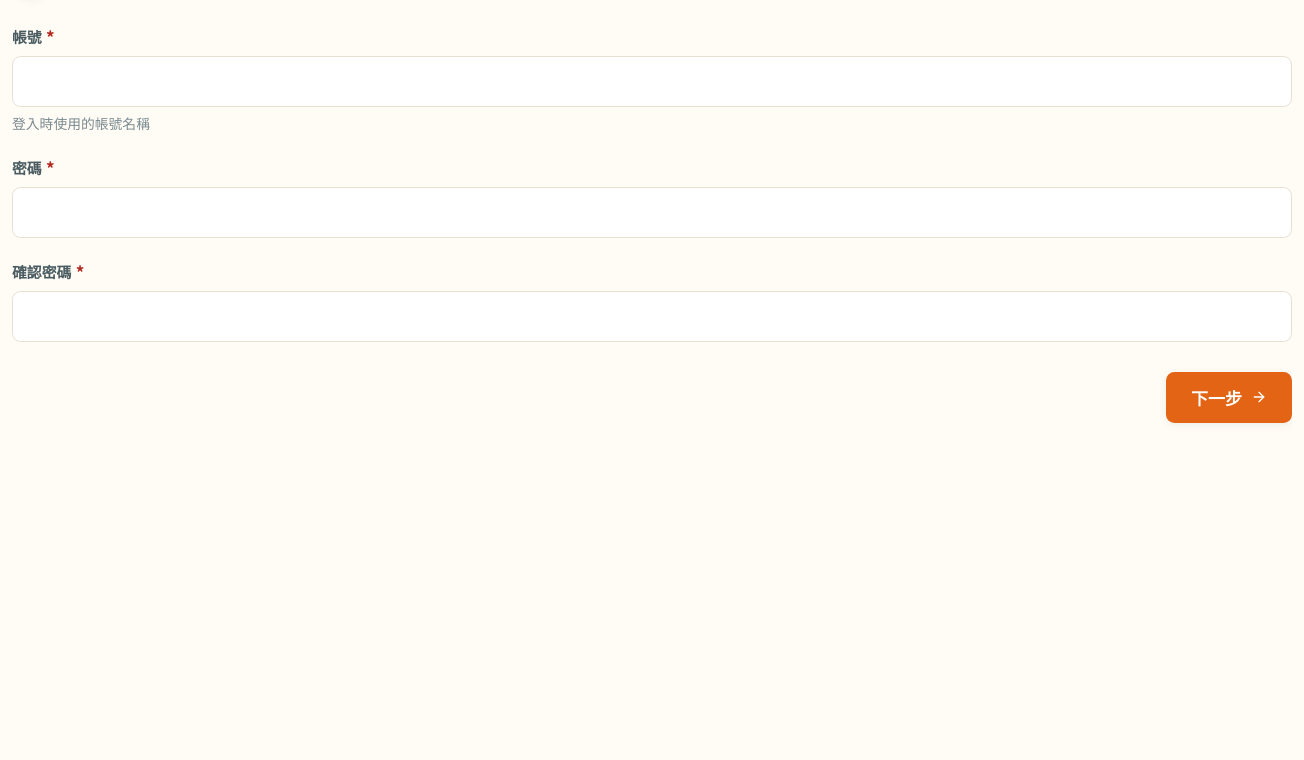
Scenario: RegisterForm › can go back from step 2 to step 1
This screenshot has width=1304, height=760.
Type "validuser" into the field labelled "帳號". click: point(652, 81)
box: [12,56,1292,107]
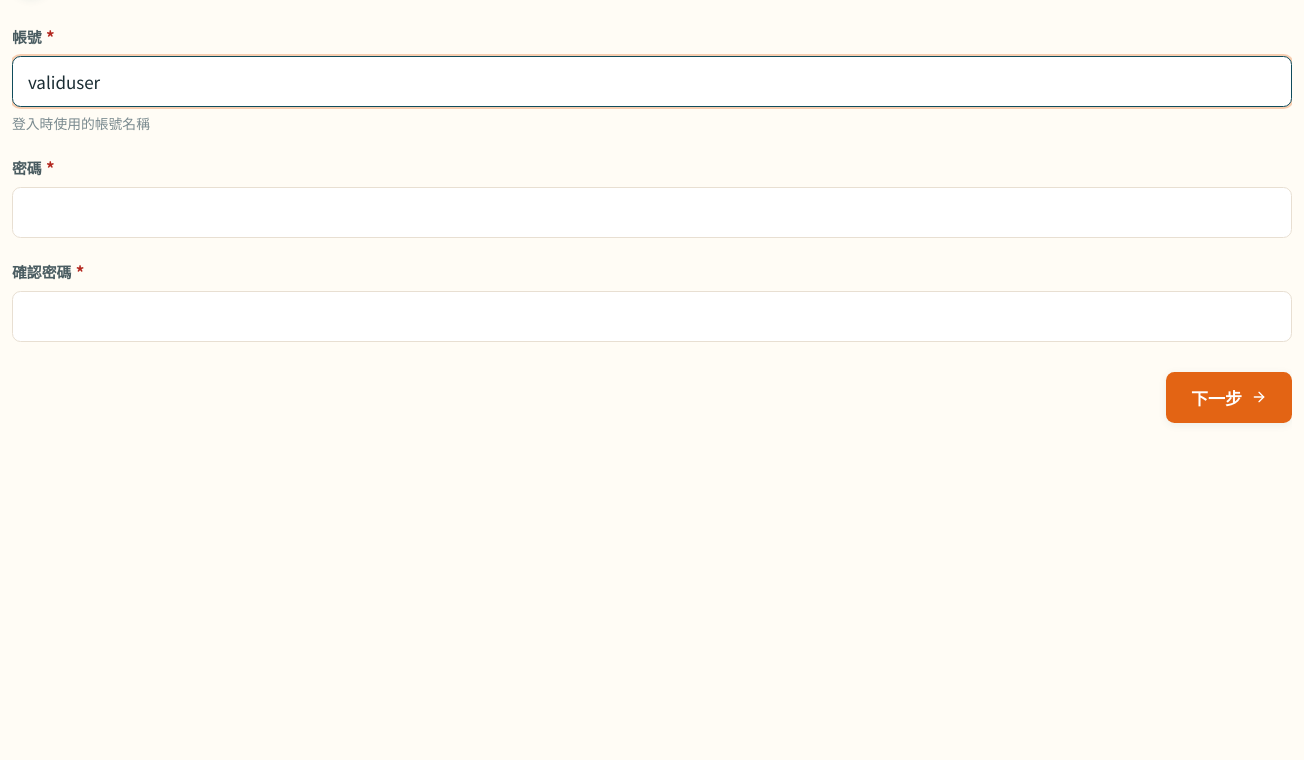
Type "password123" into the password field labelled "密碼". click: point(652, 212)
box: [12,187,1292,238]
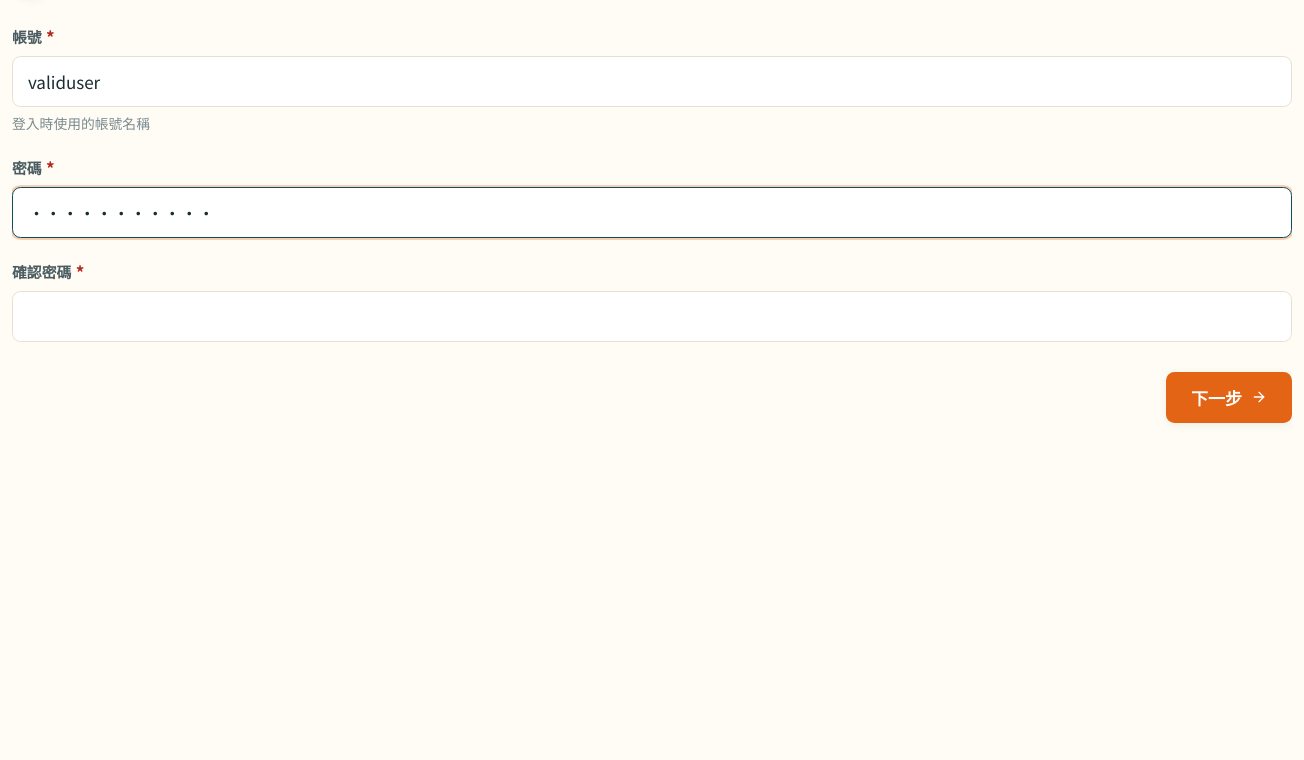
Type "password123" into the password field labelled "確認密碼". click: point(652, 316)
box: [12,291,1292,342]
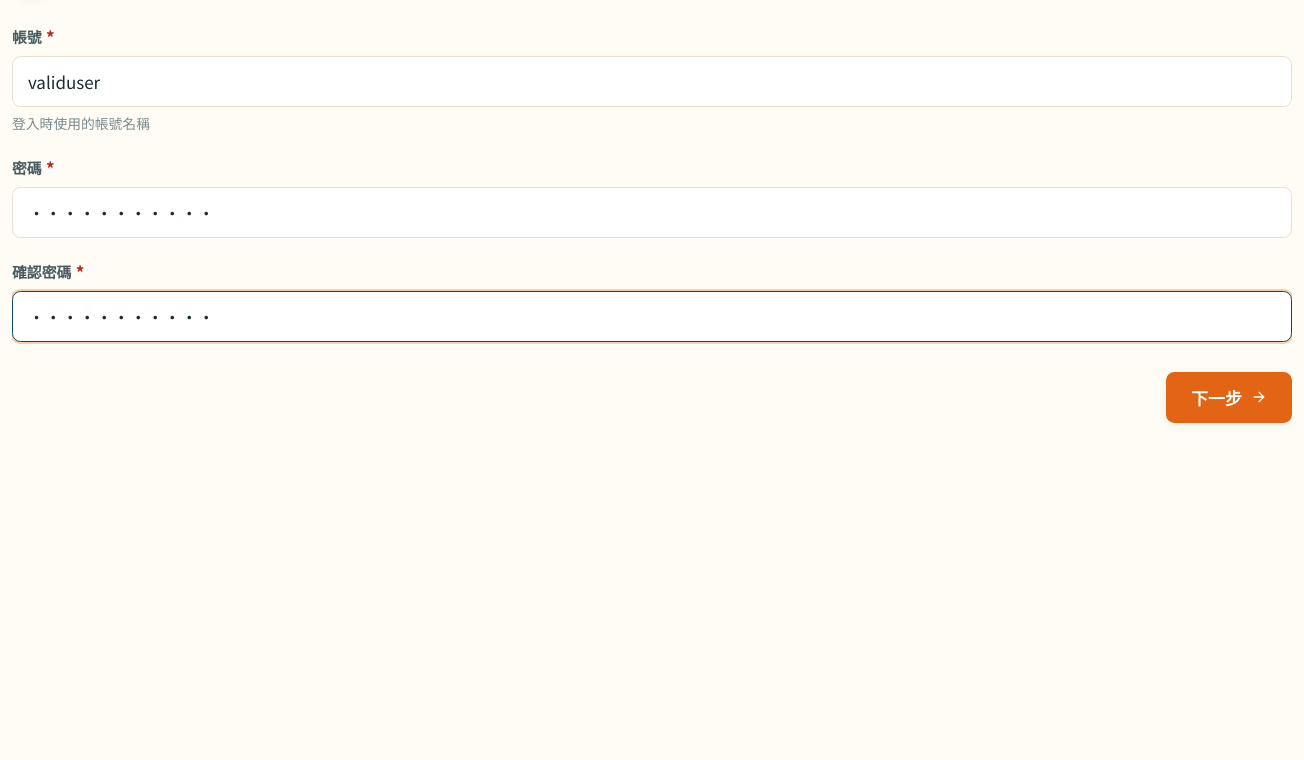
Click the button "下一步". click: point(1229, 397)
box: [1166,372,1292,423]
(page scrolled)
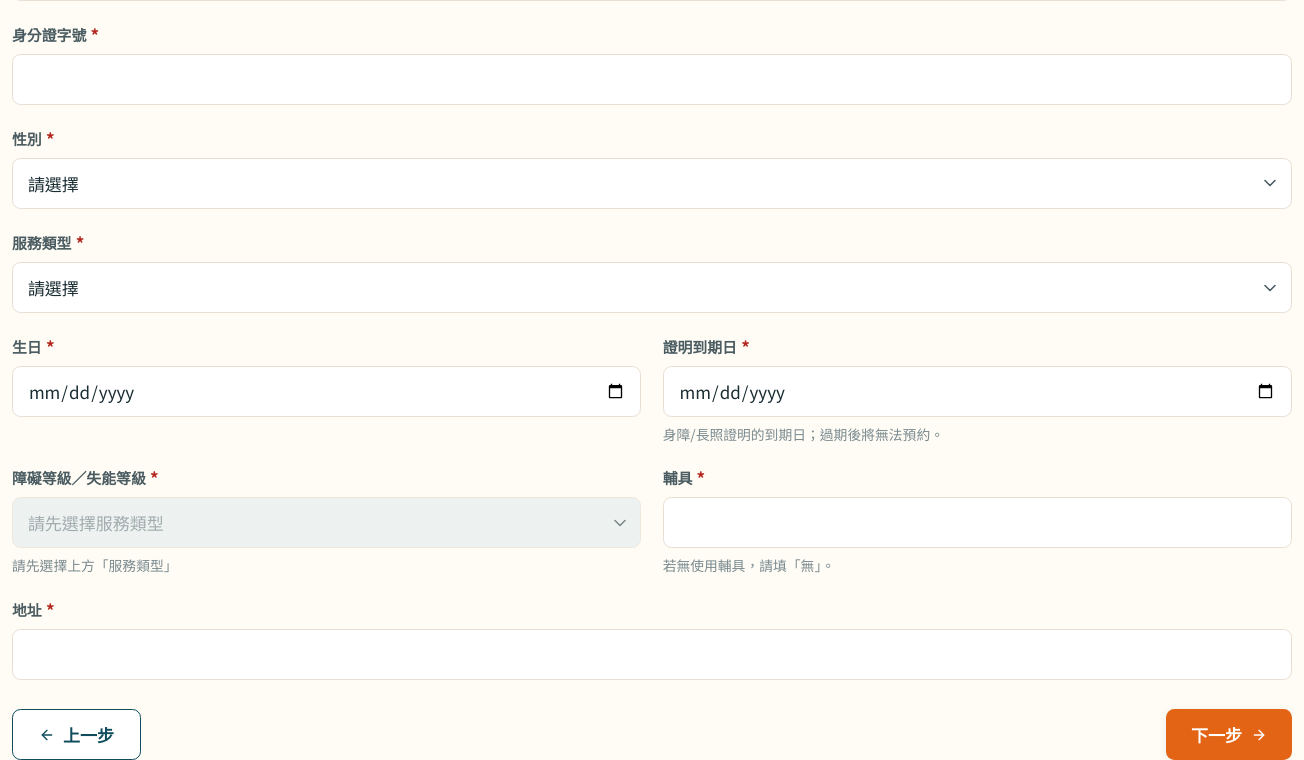
Click the button "上一步". click: point(76, 735)
box: [12,709,140,759]
(page scrolled)
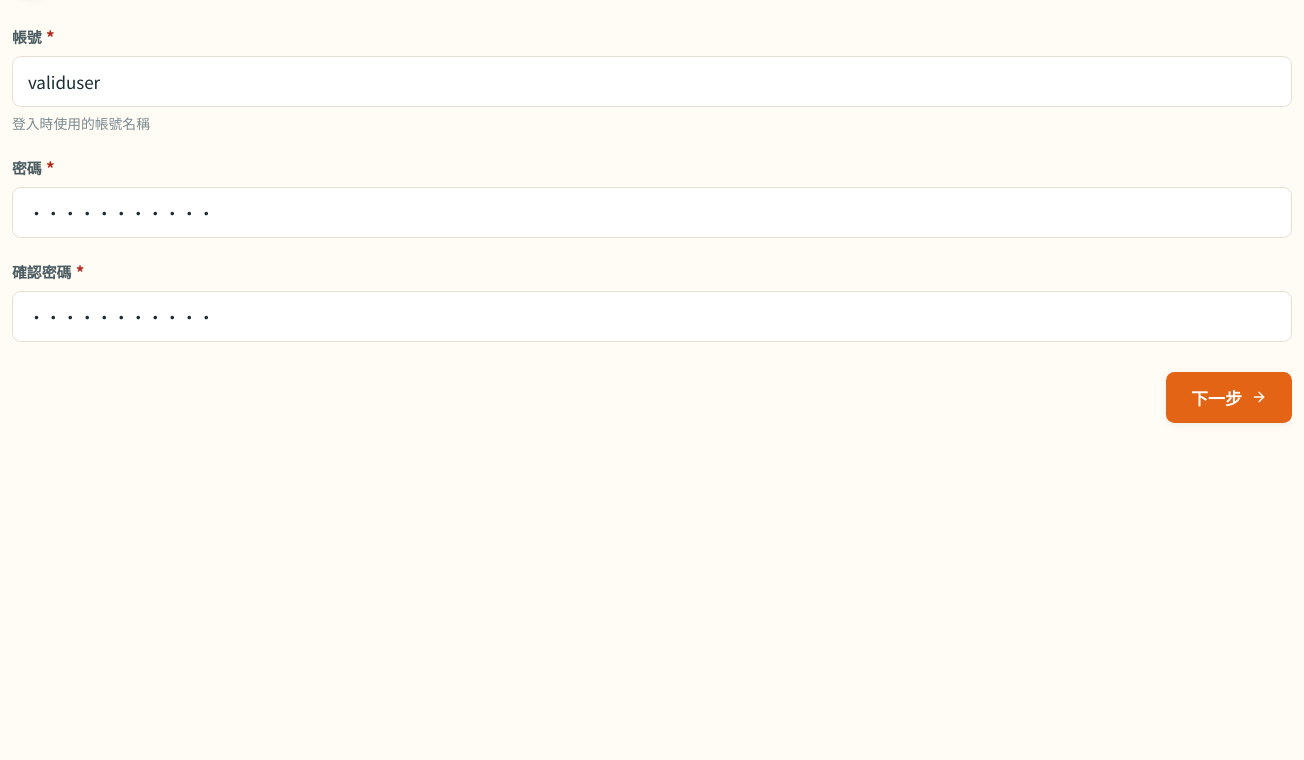
expect the field labelled "帳號" is shown: met, box [12,56,1292,107]
